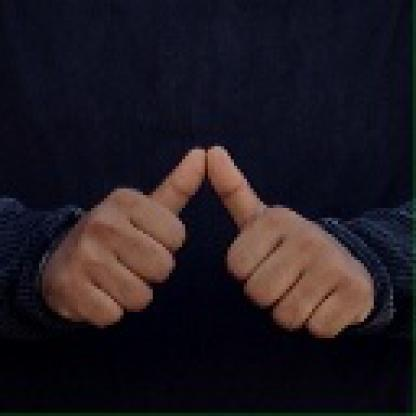A: (42, 142, 374, 350)
